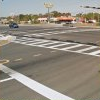crosswalk: (15, 38, 100, 57), (18, 30, 65, 39)
